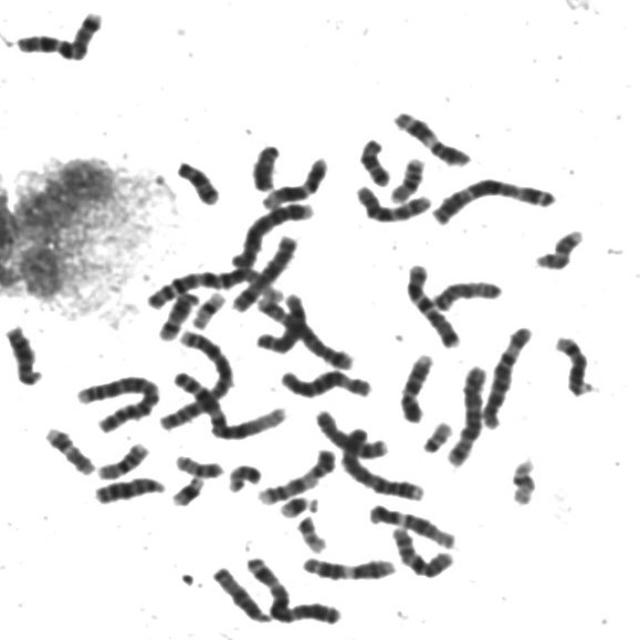A1: (166, 365, 288, 442), (140, 260, 288, 312)
A2: (152, 323, 236, 433), (68, 368, 162, 434)
A3: (239, 550, 344, 626), (424, 170, 560, 227)
B4: (332, 421, 427, 502), (226, 195, 317, 271)
B5: (251, 288, 356, 372), (440, 358, 490, 468)
C10: (384, 519, 458, 580), (348, 178, 436, 224)
C11: (387, 104, 474, 168), (295, 550, 398, 582)
C12: (362, 496, 458, 550), (256, 150, 330, 212)
C6: (475, 319, 535, 431), (274, 362, 375, 400)
C7: (399, 256, 463, 349), (9, 4, 106, 61)
C8: (308, 402, 392, 460), (250, 286, 308, 354)
C9: (251, 443, 338, 506), (394, 346, 436, 424)
D13: (0, 319, 45, 387), (87, 470, 168, 506)
D14: (548, 329, 595, 398), (152, 284, 202, 342)
D15: (206, 561, 273, 624), (426, 273, 505, 312)
E16: (90, 436, 152, 480), (384, 152, 426, 206)
E17: (38, 421, 97, 476), (528, 222, 586, 272)
E18: (170, 154, 222, 207), (352, 131, 392, 187)
F19: (503, 451, 539, 507), (185, 286, 228, 330)
F20: (168, 448, 226, 479), (221, 457, 264, 494)
G21: (164, 469, 207, 508), (272, 489, 320, 519)
G22: (291, 509, 329, 554), (416, 415, 456, 454)
X: (226, 229, 300, 314)
Y: (245, 137, 284, 193)
